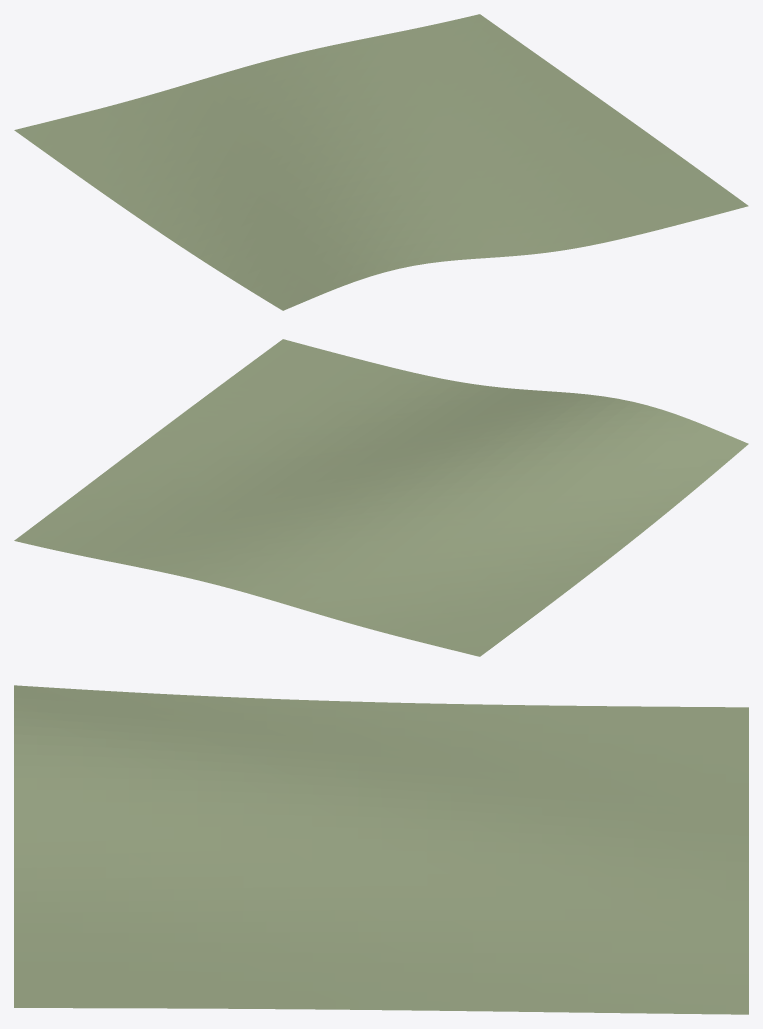
File: desert-8-2.glb
The picture shows the model from 3 angles, top to bottom: view 1: azimuth 30°, elevation 25°; view 2: azimuth 150°, elevation 25°; view 3: azimuth 270°, elevation 25°; orthographic projection. The views are drawn at different scales.
Visible parts, largest first — view 1: desert-8-2; view 2: desert-8-2; view 3: desert-8-2.
Boxes of the visible parts, left/top/right/bottom form: desert-8-2: left=14, top=14, right=748, bottom=310; desert-8-2: left=14, top=339, right=748, bottom=656; desert-8-2: left=14, top=685, right=748, bottom=1014.
Size of the model in its own units: 512 by 31.42 by 512.
